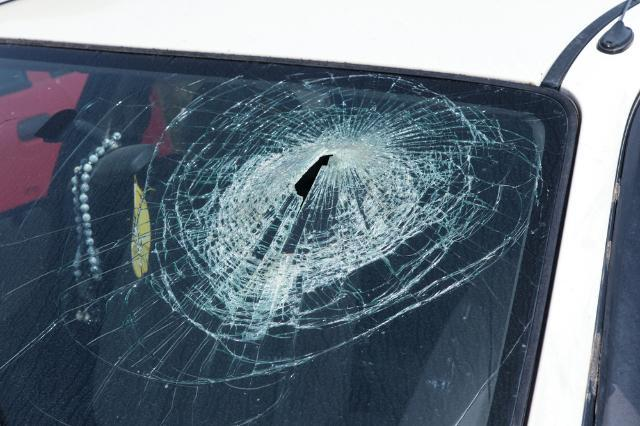glass shatter: (0, 42, 568, 426)
